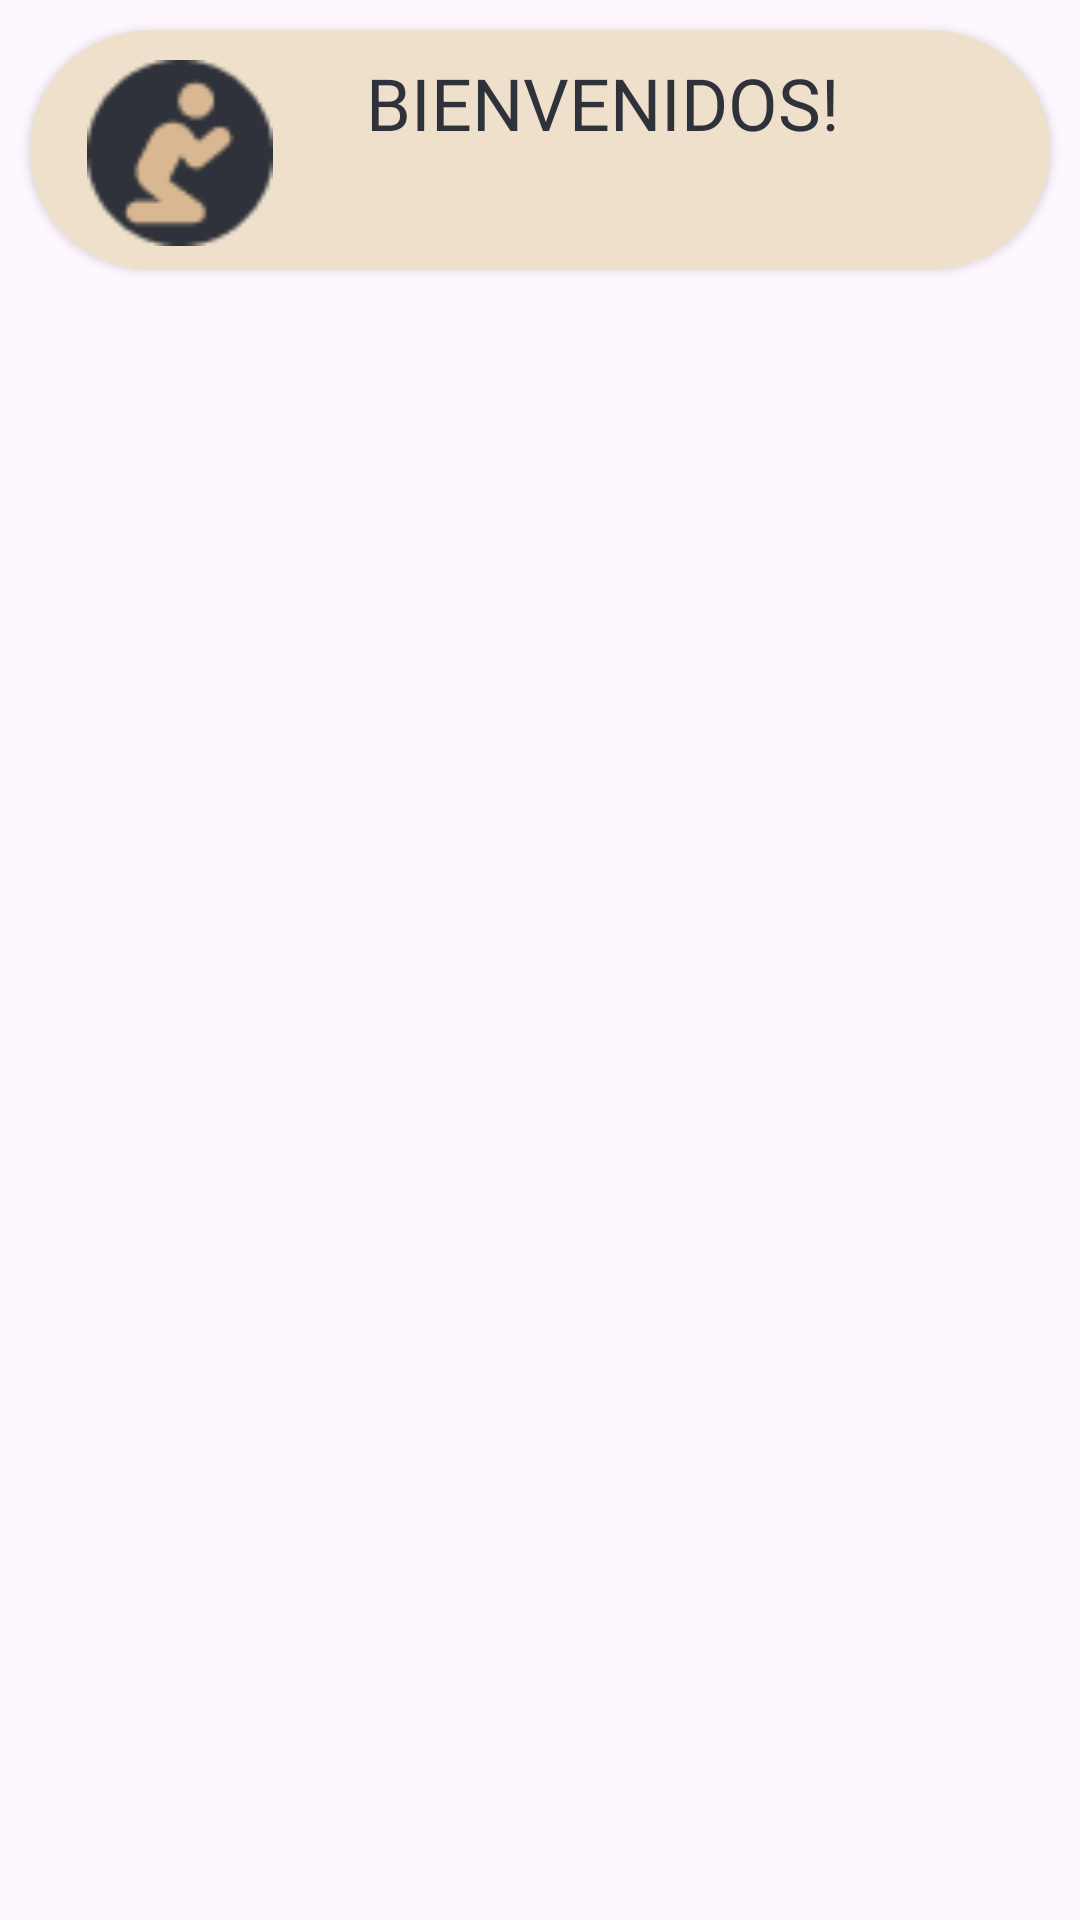

Icon click points for this 1080*1920 phone screenshot, format [x,y]:
praying: [180,153]
